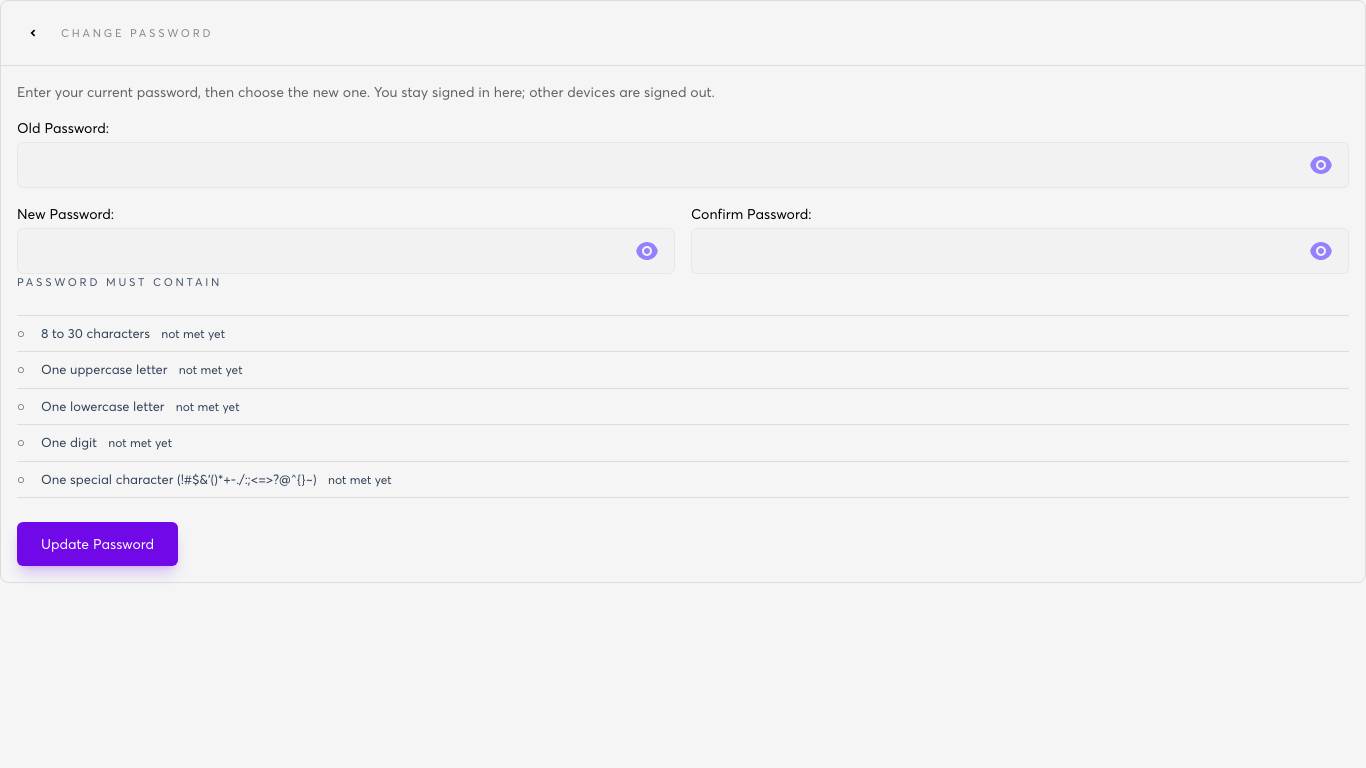
Test: shows the server's refusal inline and keeps the old token
This screenshot has width=1366, height=768.
Type "Wrong1!x" into the password field labelled "Old Password:" at {"x": 683, "y": 165}, box [17,142,1349,188]
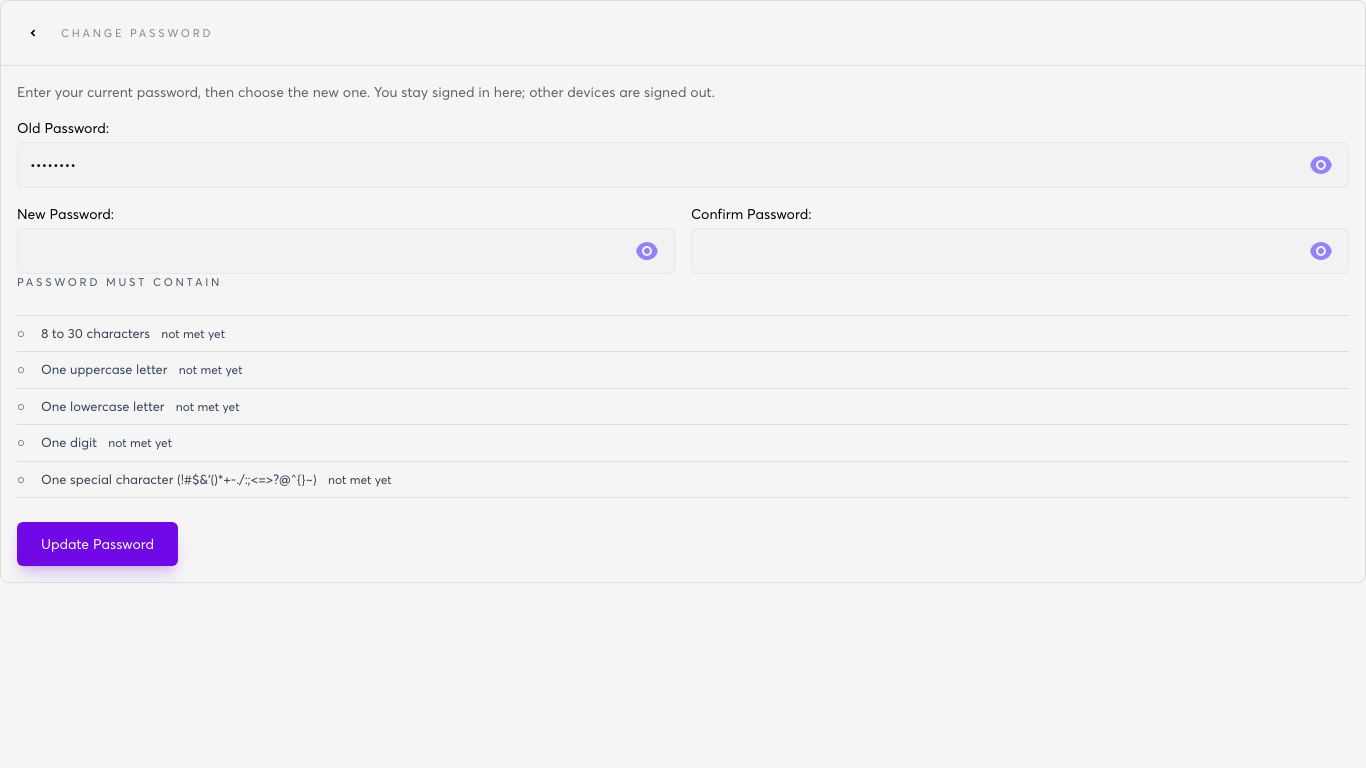
Type "NewPass2!" into the password field labelled "New Password:" at {"x": 346, "y": 251}, box [17,228,675,274]
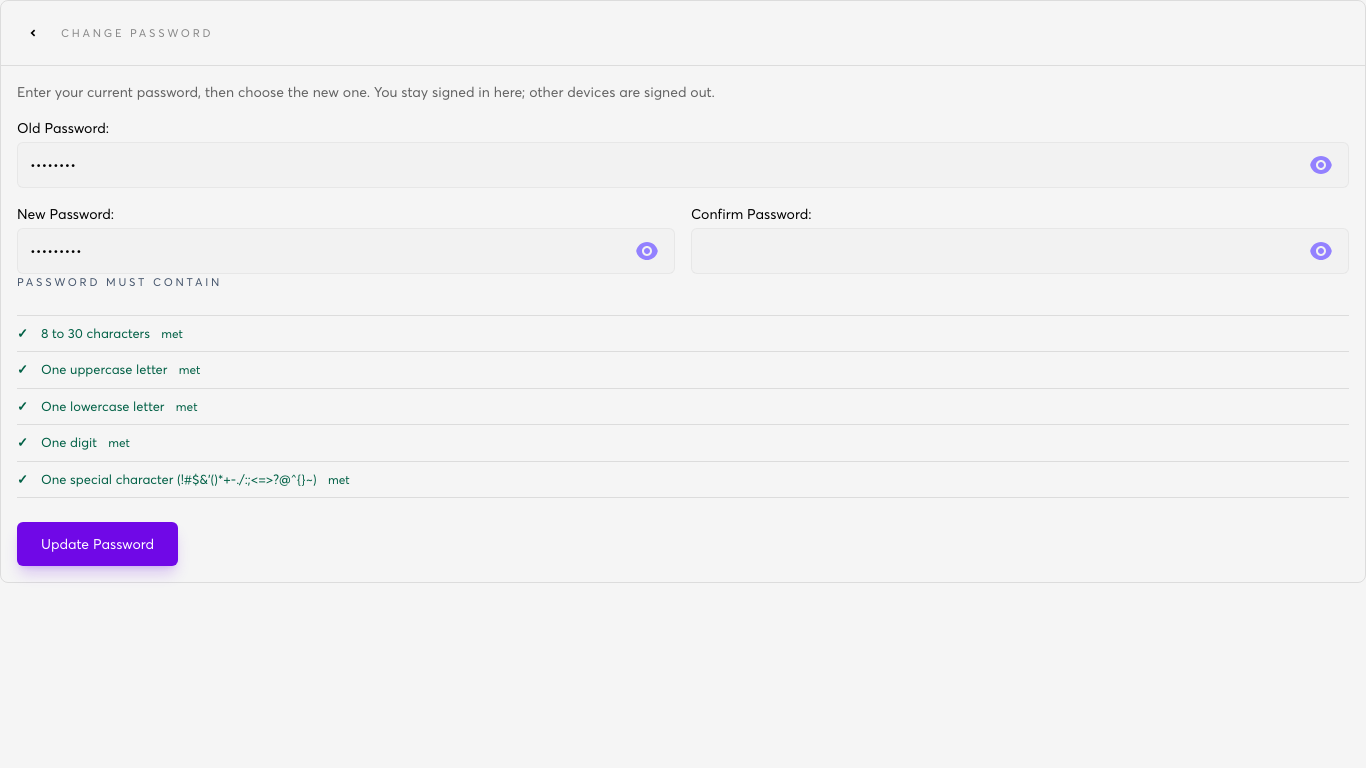
Type "NewPass2!" into the password field labelled "Confirm Password:" at {"x": 1020, "y": 251}, box [691,228,1349,274]
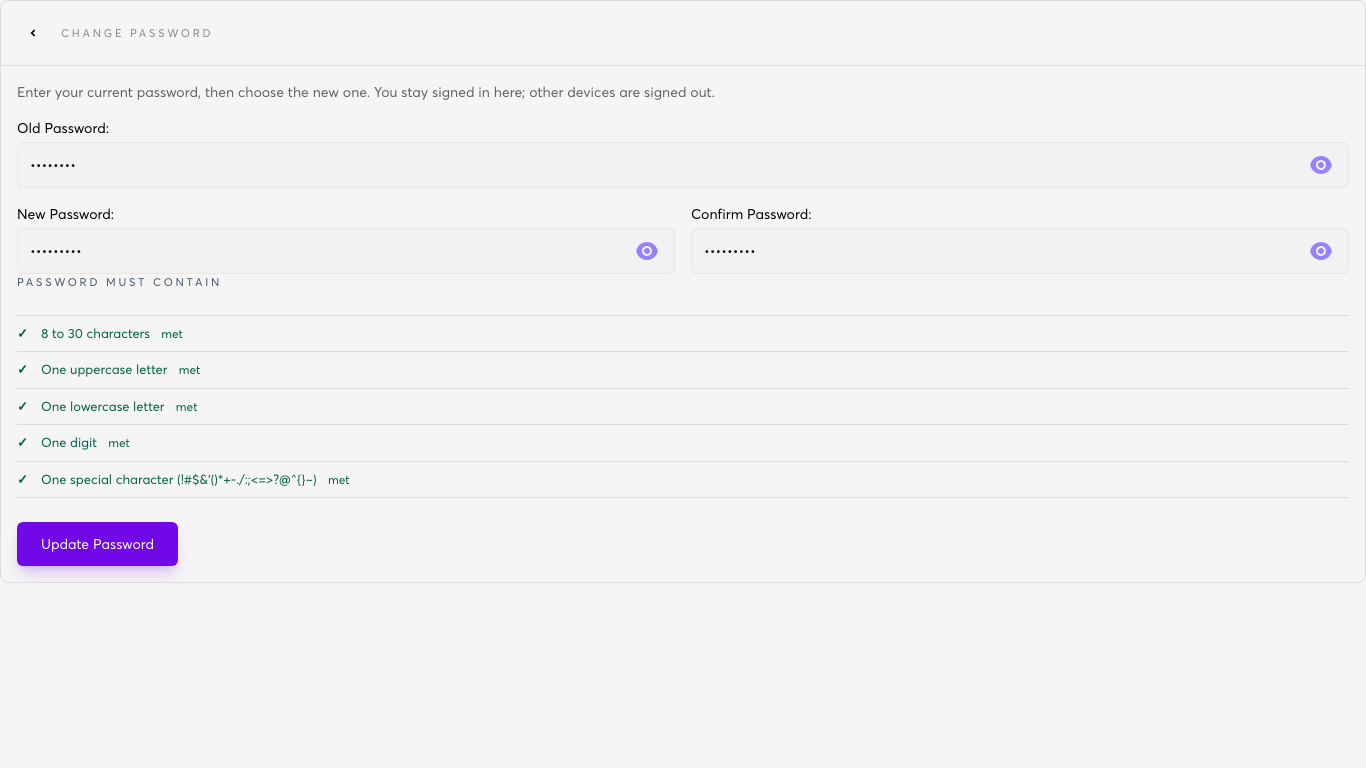
Click the button "Update Password" at {"x": 98, "y": 544}, box [17,522,178,566]
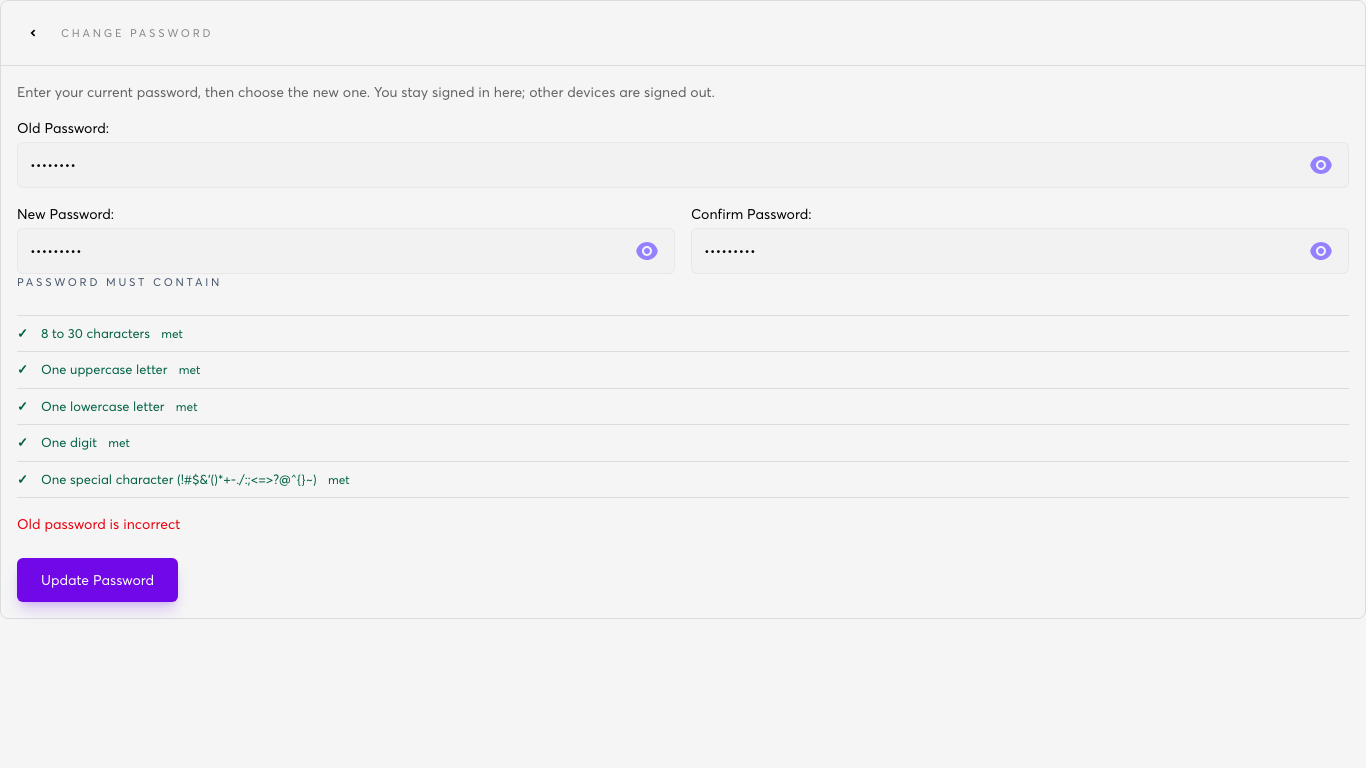
Expected: the message reads "Old password is incorrect", [17,515,180,532]
